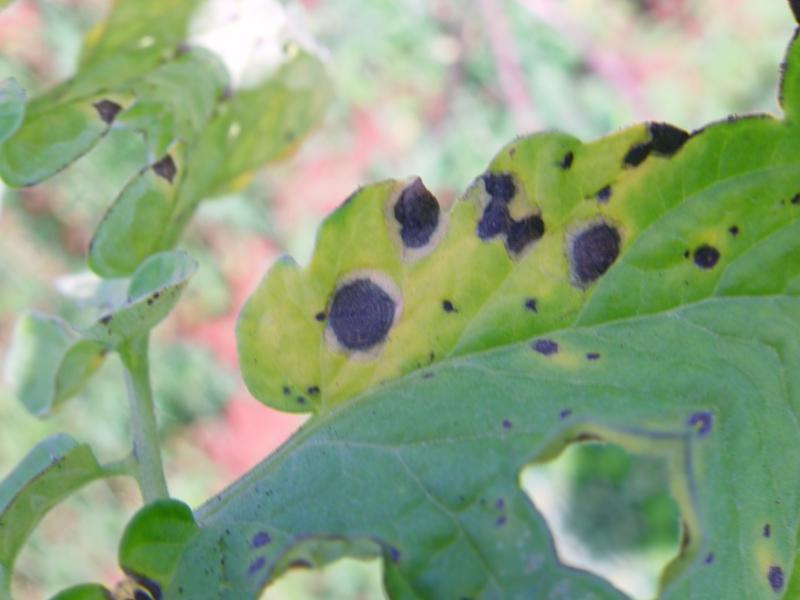Tomato Early blight leaf: (35, 0, 800, 600), (71, 132, 234, 295)
